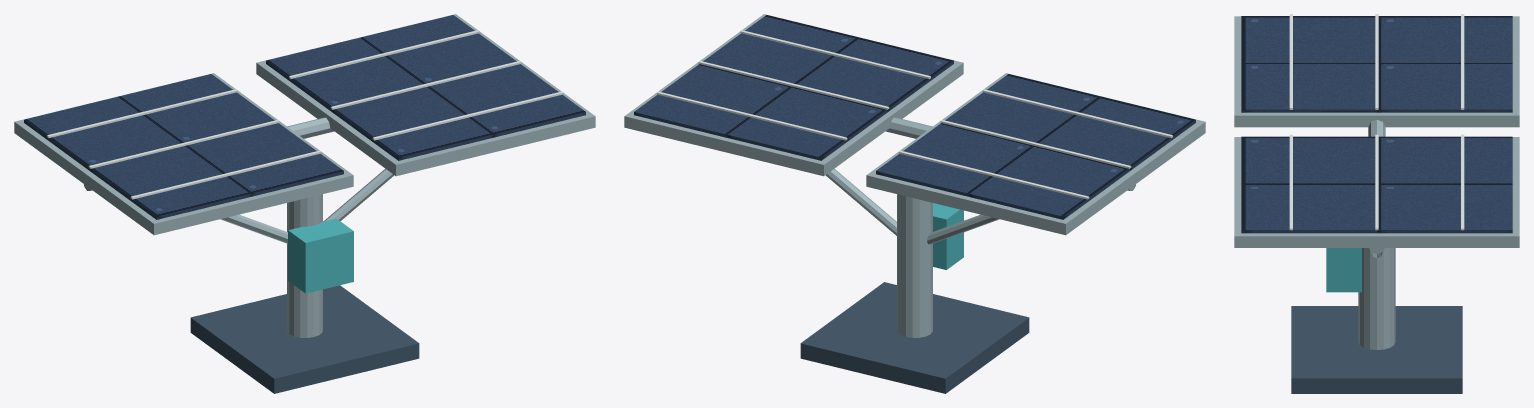
File: orbital-field-station-folding-solar-array__145.glb
3 renders of one model, left to right at view 1: azimuth 30°, elevation 25°; view 2: azimuth 150°, elevation 25°; view 3: azimuth 270°, elevation 25°, orthographic. The views are drawn at different scales.
Visible parts, largest first — view 1: panel, metal, dark, shell, accent; view 2: panel, metal, dark, shell, accent; view 3: panel, metal, dark, shell, accent.
Part boxes in pixels (<box>): panel: <box>24,15,585,219</box>; metal: <box>14,14,595,337</box>; dark: <box>190,285,419,393</box>; shell: <box>47,30,562,199</box>; accent: <box>288,218,353,293</box>; panel: <box>634,15,1195,219</box>; metal: <box>624,14,1205,337</box>; dark: <box>800,282,1029,393</box>; shell: <box>657,30,1172,199</box>; accent: <box>933,203,963,269</box>; panel: <box>1241,16,1512,233</box>; metal: <box>1234,16,1519,349</box>; dark: <box>1291,306,1462,393</box>; shell: <box>1289,14,1464,230</box>; accent: <box>1326,248,1361,292</box>.
Bounding box in the file's own units: 3.65 × 1.83 × 2.
5 materials, 1 textured.
